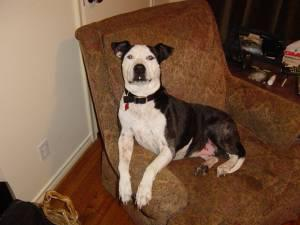dog-american_pit_bull_terrier: (110, 39, 172, 85)
